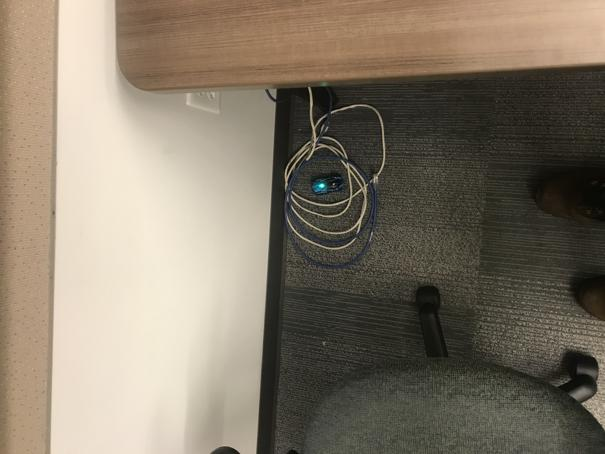Shock: (310, 173, 346, 197)
